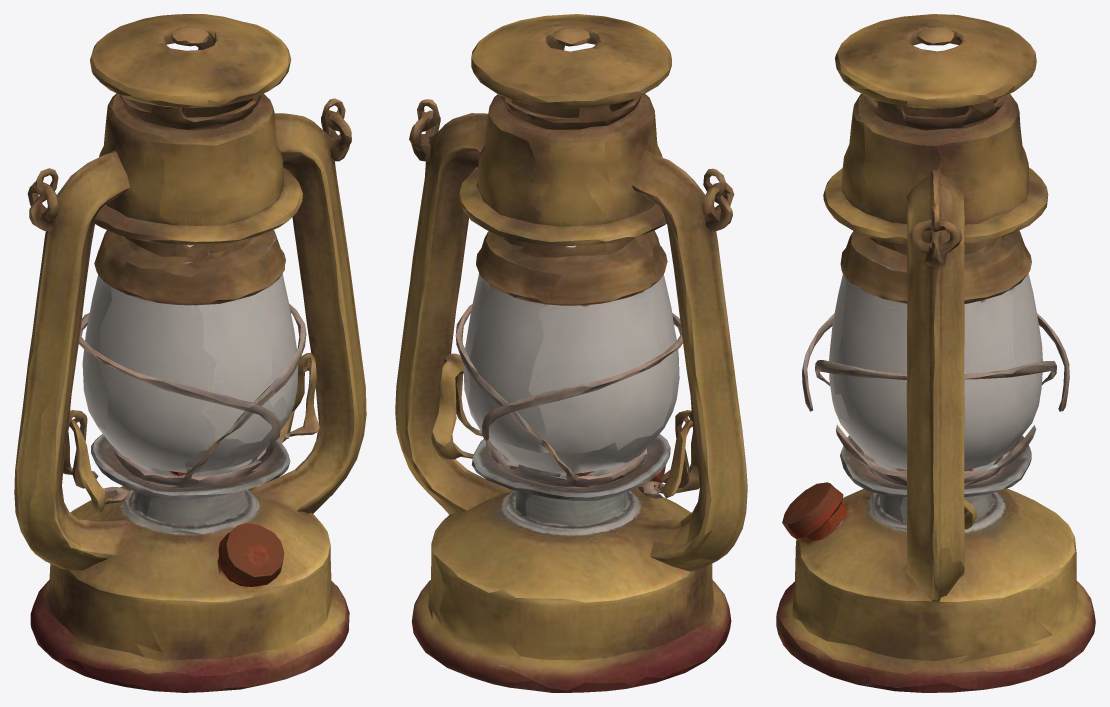
The model's file is lg-pell-lamp.glb.
The picture shows the model from 3 angles, left to right: view 1: azimuth 30°, elevation 25°; view 2: azimuth 150°, elevation 25°; view 3: azimuth 270°, elevation 25°; orthographic projection.
Parts seen in each view (by area): view 1: geometry_0; view 2: geometry_0; view 3: geometry_0.
Boxes of the visible parts, x1,y1,x2,y2 form: geometry_0: (14, 14, 366, 692); geometry_0: (395, 14, 747, 692); geometry_0: (776, 14, 1095, 692).
Size of the model in its own units: 0.6163 by 1 by 0.486.
1 material, 1 textured.
